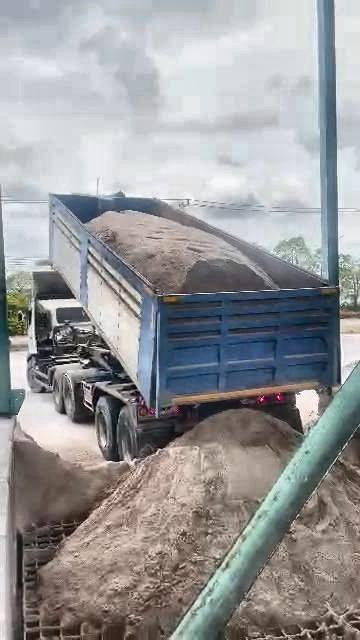sand: (40, 411, 300, 639), (228, 462, 360, 637), (87, 211, 277, 292), (13, 429, 128, 531), (343, 426, 360, 469)
